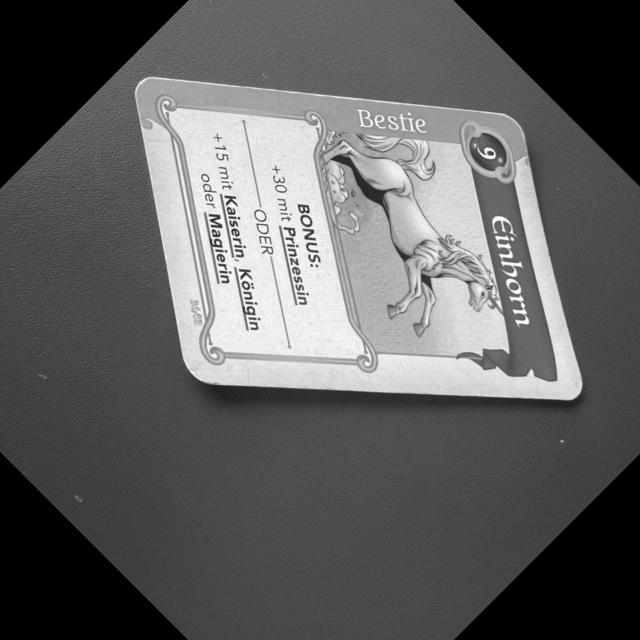Unicorn: (128, 71, 592, 407)
